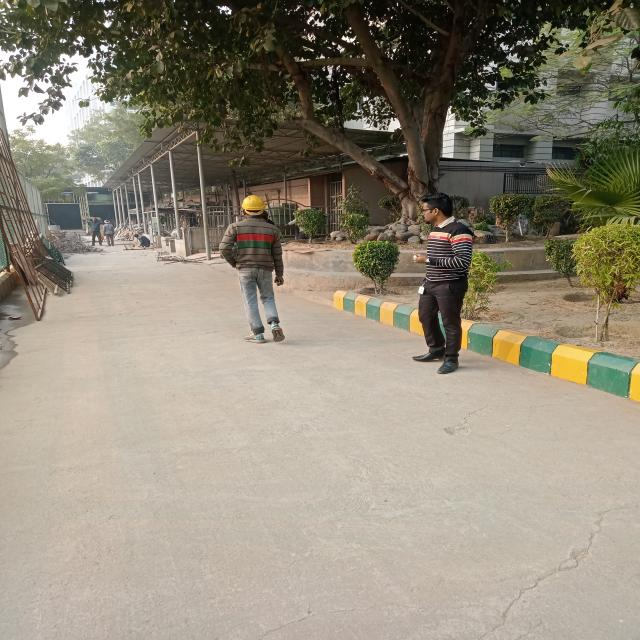no jacket: (217, 190, 299, 350)
unsafe: (408, 192, 478, 377), (87, 216, 103, 246), (102, 220, 116, 247)
